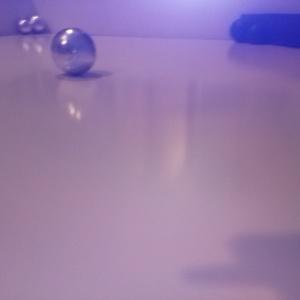alive_ball: (50, 27, 96, 75), (29, 15, 45, 32), (18, 18, 32, 33)
dead_ball: (229, 17, 252, 42), (245, 22, 268, 44)
